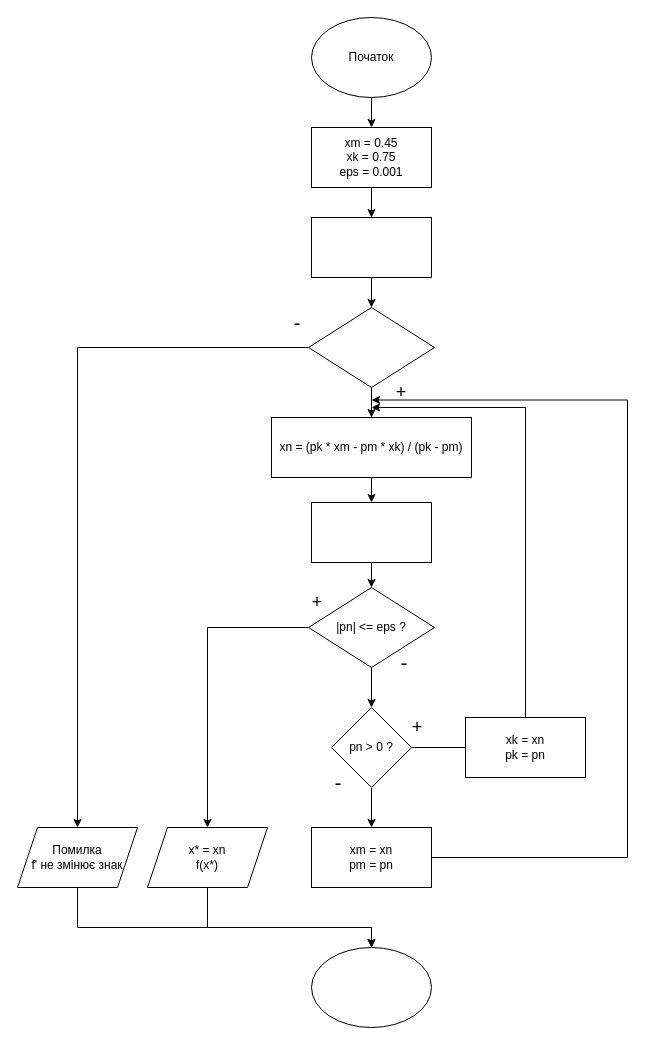
Some shapes in this 653 by 1045 pixel diagram are drawn without their labels. Each missing label, with the centre of its shape:
"pm * pk < 0 ?" goes at pixel 371 347.
"pm = f'(xm) pk = f'(xk)" goes at pixel 371 247.
"pn = f'(xn)" goes at pixel 371 532.
"Кінець" goes at pixel 371 987.
